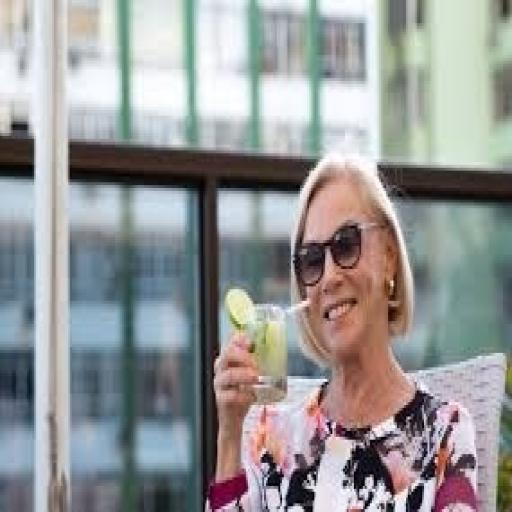drinking: (185, 141, 417, 405)
